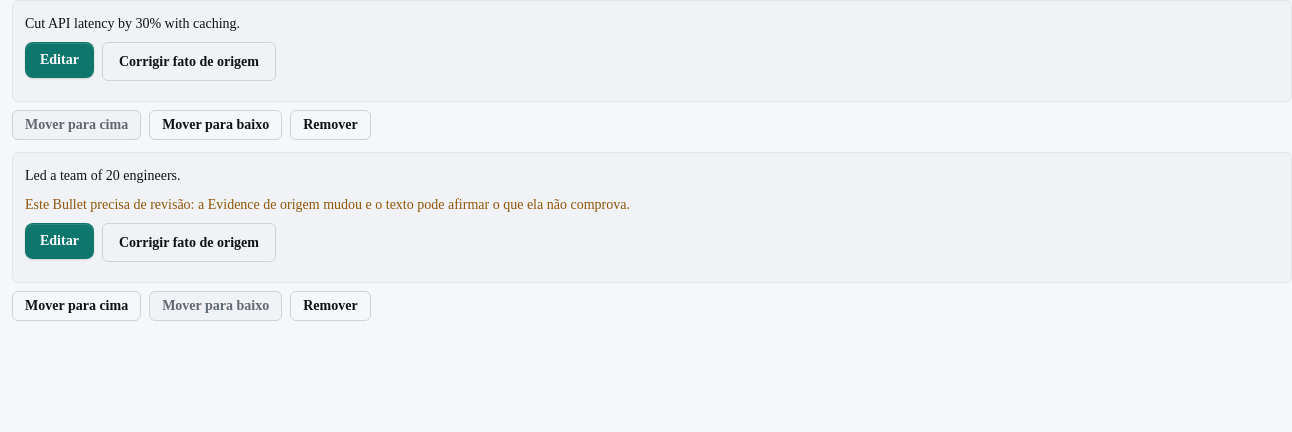
Test: BulletList › should confirm removal with focus on Cancelar and focus the next item after confirm
Click the button with aria-label "Remover o Bullet" at x=330, y=125, box [290, 110, 371, 140]
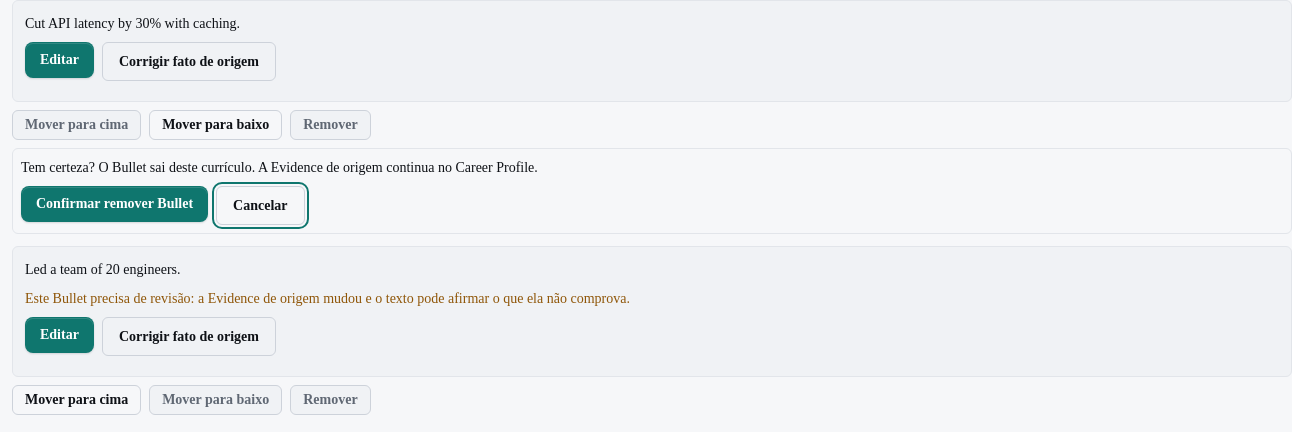
Result: the button "Cancelar" is shown at [216, 186, 304, 225]
Click the button "Confirmar remover Bullet" at x=115, y=204, box [21, 186, 208, 222]
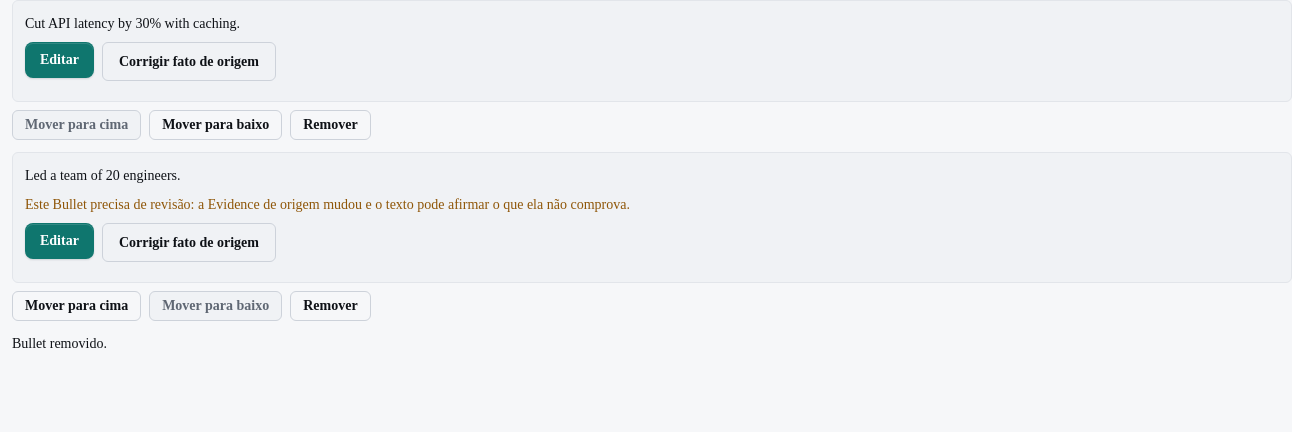
Result: the text "Bullet removido." is shown at [12, 336, 107, 351]
